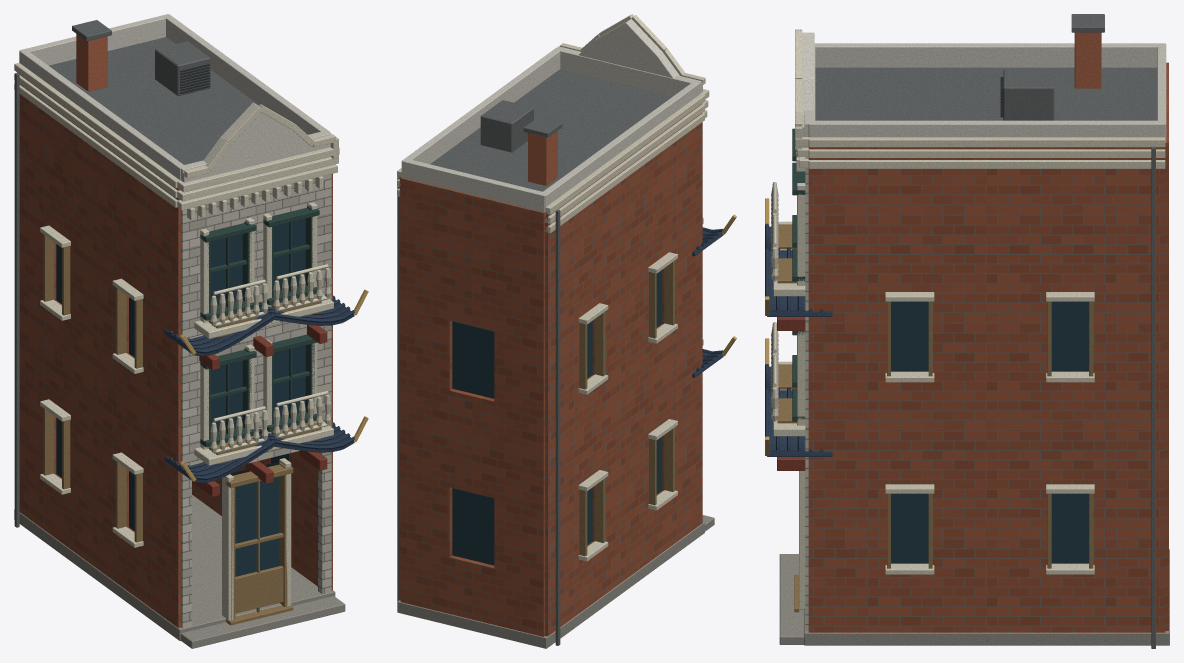
File: CHINA16_lod1.glb
The picture shows the model from 3 angles, left to right: view 1: azimuth 30°, elevation 25°; view 2: azimuth 150°, elevation 25°; view 3: azimuth 270°, elevation 25°; orthographic projection. The views are drawn at different scales.
Visible parts, largest first — view 1: CHINA16_LOD1; view 2: CHINA16_LOD1; view 3: CHINA16_LOD1.
Part boxes in pixels (x1,y1,x2,y2): CHINA16_LOD1: (14, 14, 368, 648); CHINA16_LOD1: (397, 14, 736, 648); CHINA16_LOD1: (765, 14, 1169, 648).
Size of the model in its own units: 4.01 by 10.64 by 6.81.
Materials: 15 (12 with a texture image).
